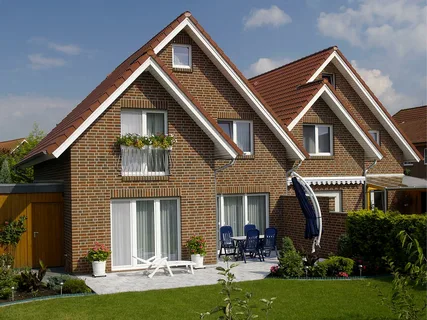private_hause: (15, 8, 419, 279)
